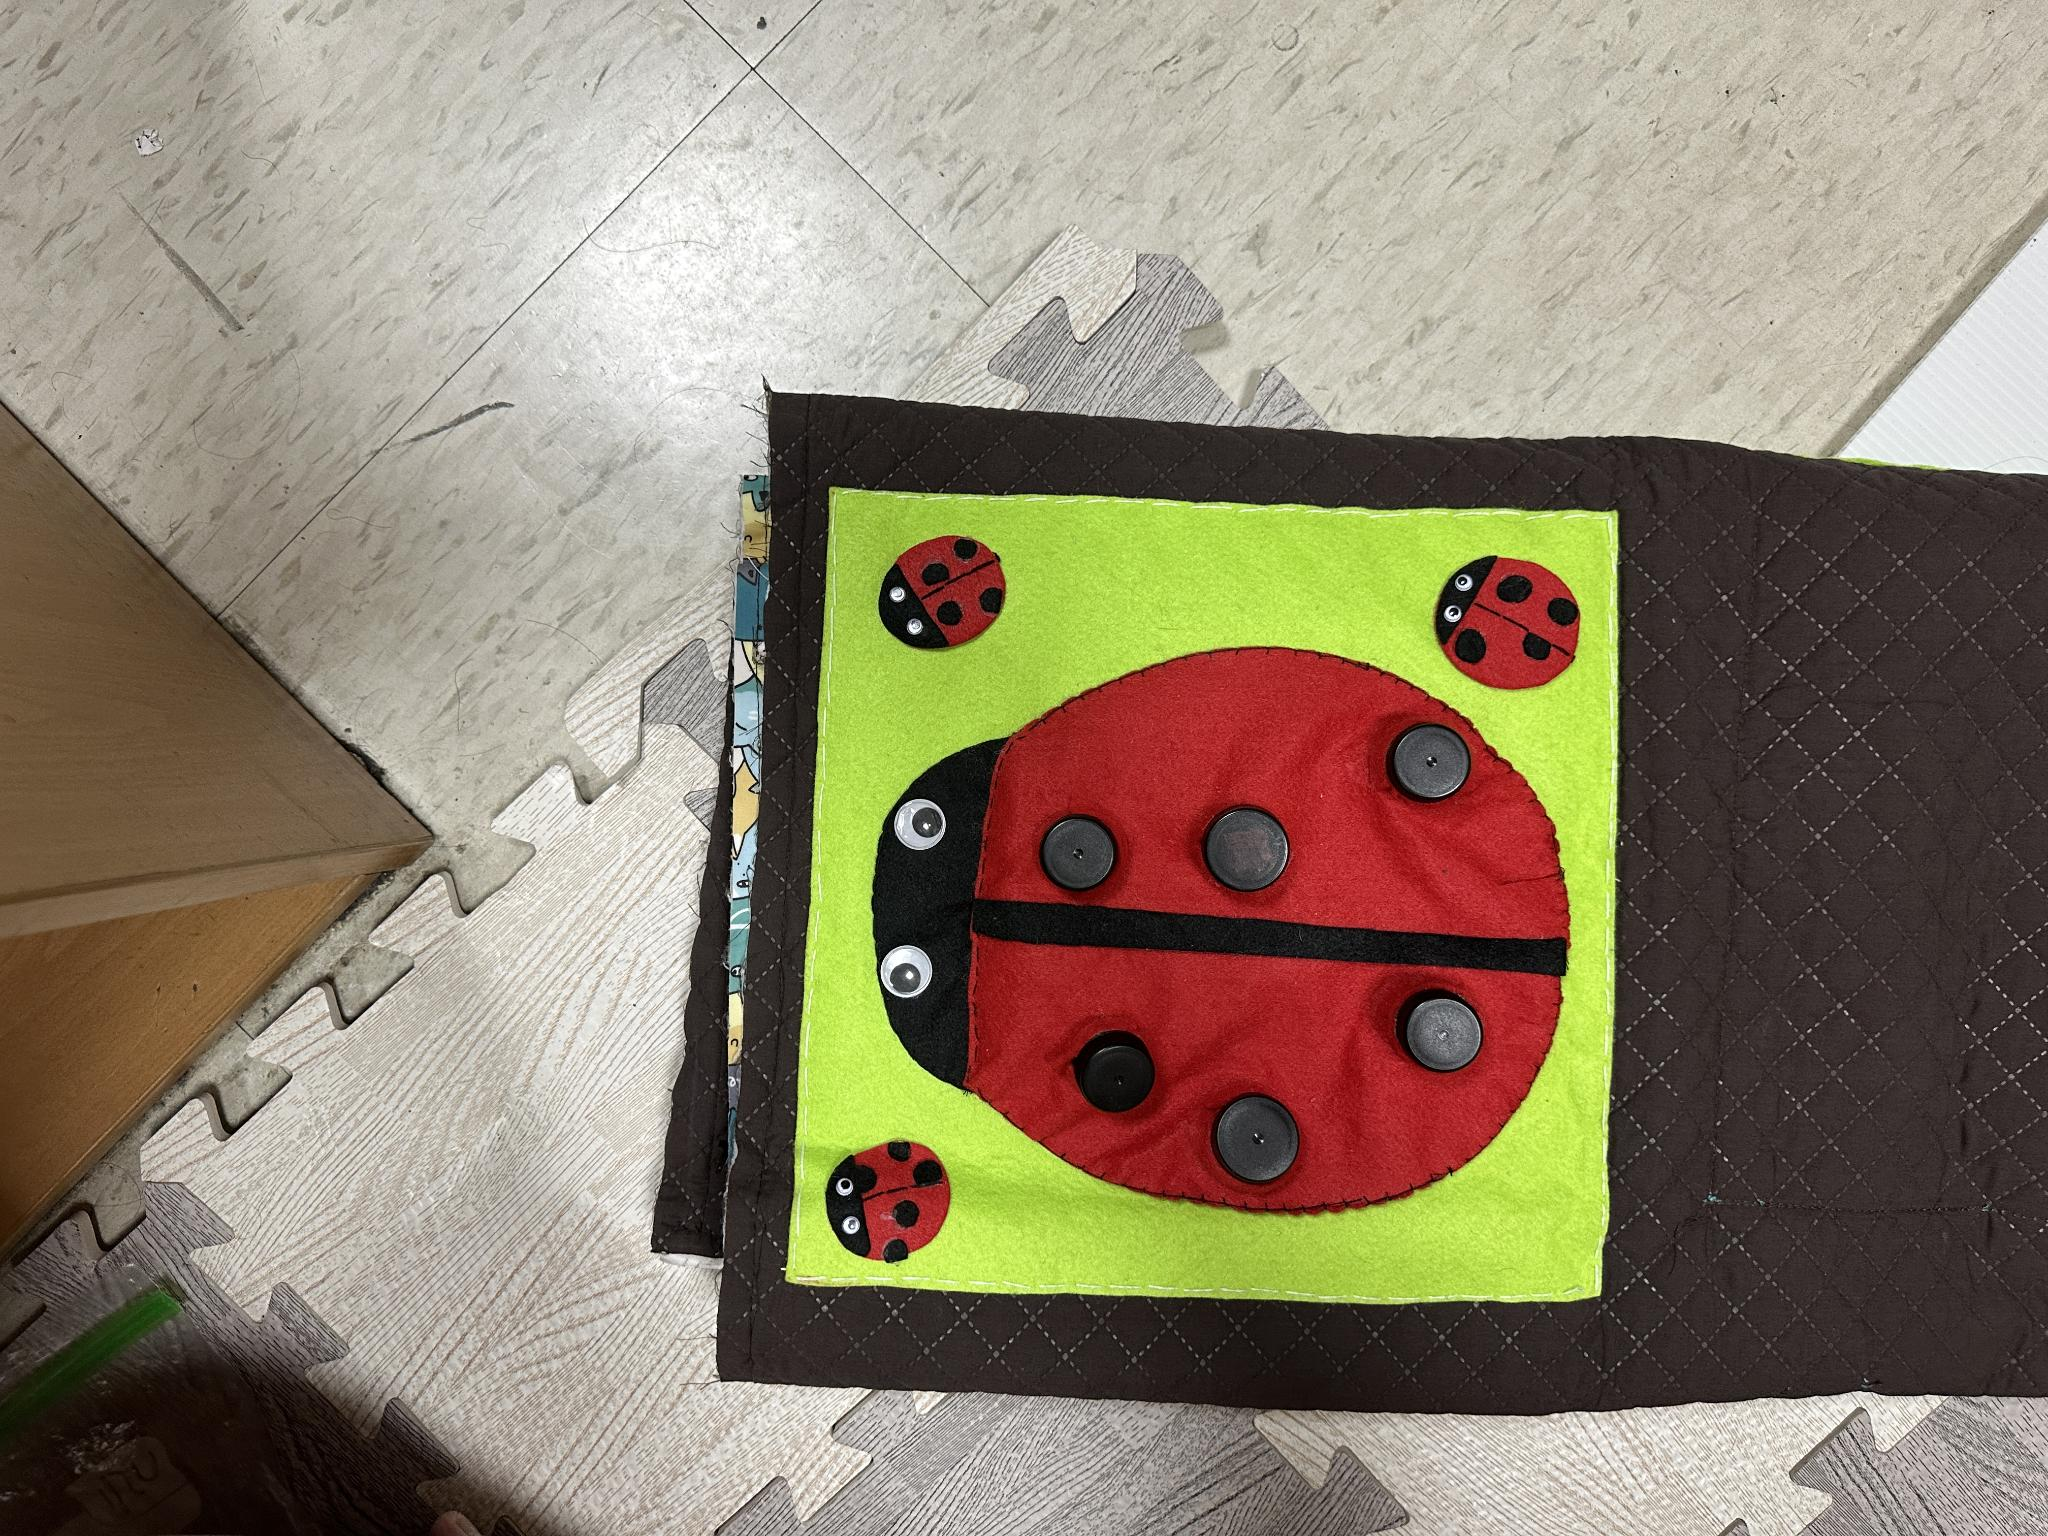cap_ok: (1193, 1078, 1324, 1194), (1195, 802, 1314, 904), (1377, 708, 1495, 810), (1071, 1016, 1176, 1128), (1392, 975, 1496, 1083), (1035, 794, 1135, 895)
